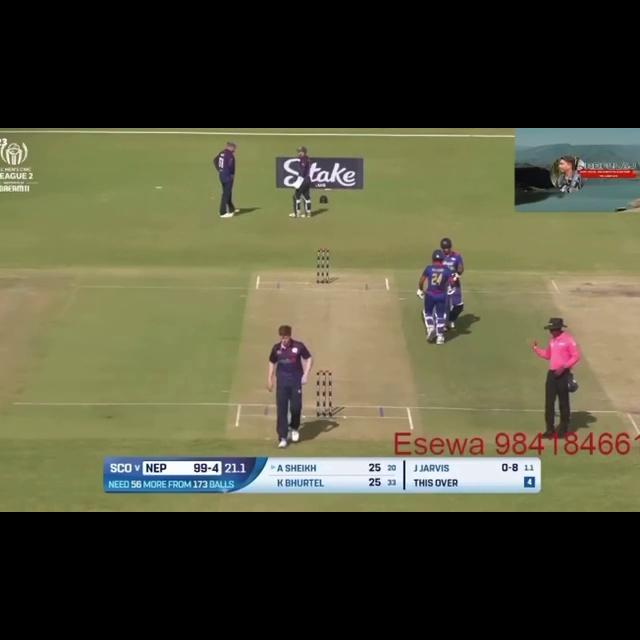umpire: (522, 313, 580, 435)
